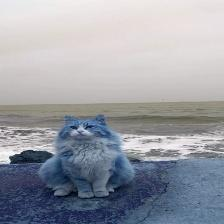kedo: (39, 114, 134, 197)
